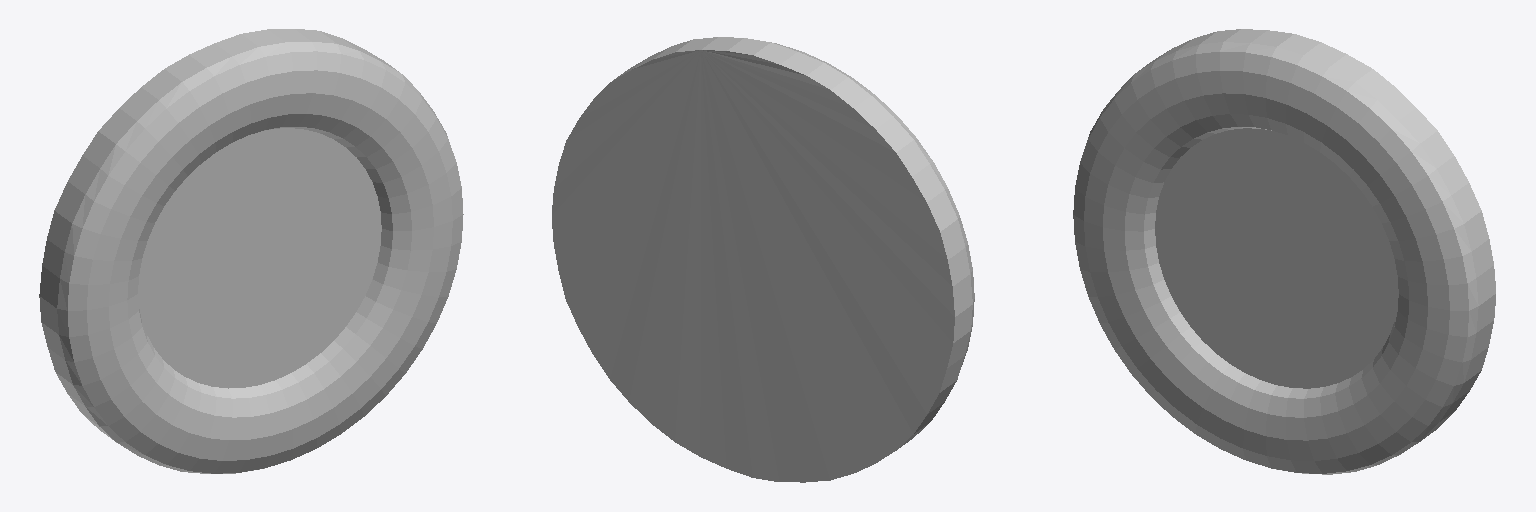
The model's file is rondelleR.obj.
3 views of the same model, side by side, from view 1: azimuth 30°, elevation 25°; view 2: azimuth 150°, elevation 25°; view 3: azimuth 330°, elevation 25° (orthographic).
Visible parts, largest first — view 1: Torus; view 2: Torus; view 3: Torus.
Part boxes in pixels (left/top/right/bottom): Torus: left=39, top=29, right=463, bottom=473; Torus: left=552, top=37, right=974, bottom=482; Torus: left=1073, top=29, right=1495, bottom=474.
Bounding box in the file's own units: 2.92 × 2.92 × 0.3753.